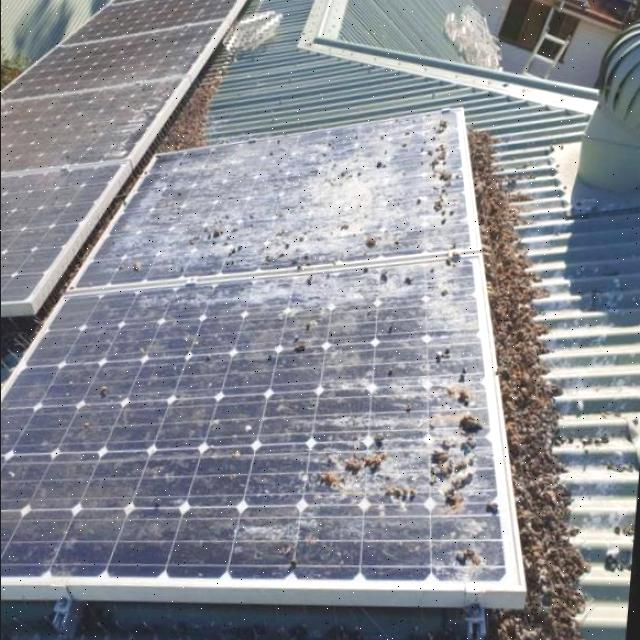Anomaly Solar Panel: (0, 106, 509, 584)
Surface Contaminant: (0, 108, 506, 580), (0, 0, 236, 301)
